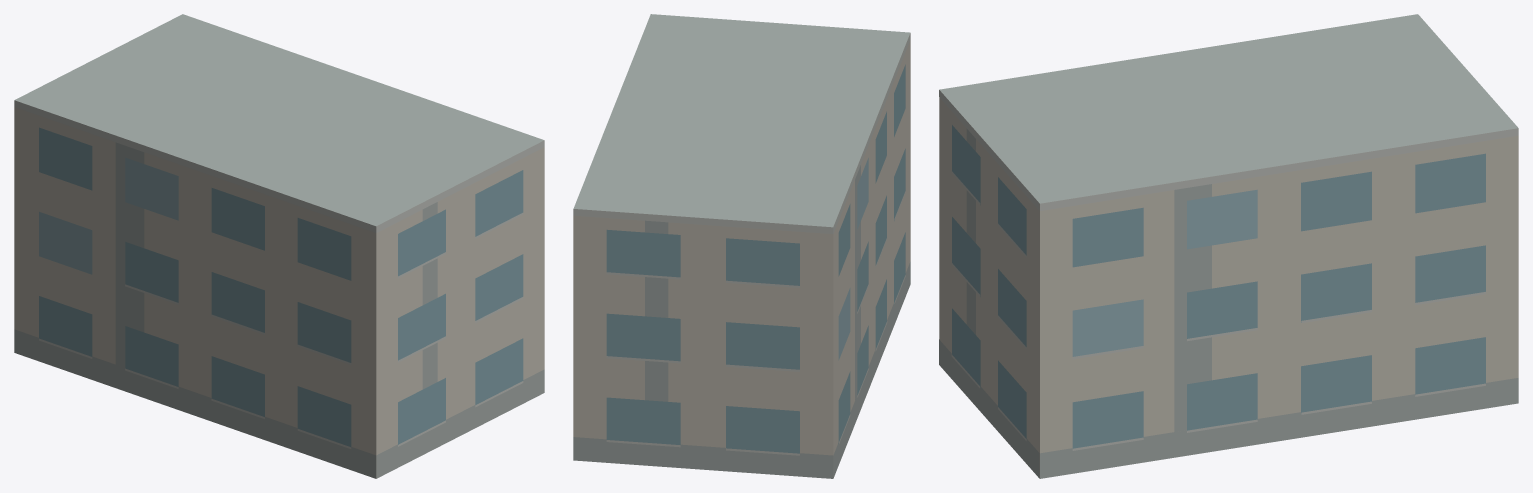
Rendered from residential-d838ad66-0367-4fa8-a403-302d28b9f220.glb.
3 views of the same model, side by side, from view 1: azimuth 30°, elevation 25°; view 2: azimuth 150°, elevation 25°; view 3: azimuth 270°, elevation 25° (orthographic). The views are drawn at different scales.
Visible parts, largest first — view 1: residential-d838ad66-0367-4fa8-a403-302d28b9f220.tmp; view 2: residential-d838ad66-0367-4fa8-a403-302d28b9f220.tmp; view 3: residential-d838ad66-0367-4fa8-a403-302d28b9f220.tmp.
Boxes of the visible parts, left/top/right/bottom form: residential-d838ad66-0367-4fa8-a403-302d28b9f220.tmp: left=14, top=14, right=544, bottom=478; residential-d838ad66-0367-4fa8-a403-302d28b9f220.tmp: left=573, top=14, right=910, bottom=478; residential-d838ad66-0367-4fa8-a403-302d28b9f220.tmp: left=939, top=14, right=1518, bottom=478.
Bounding box in the file's own units: 13.31 × 9 × 17.19.
